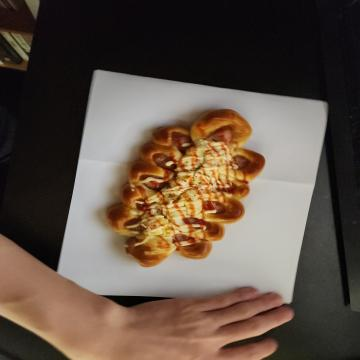pizza_bread: (108, 94, 269, 255)
